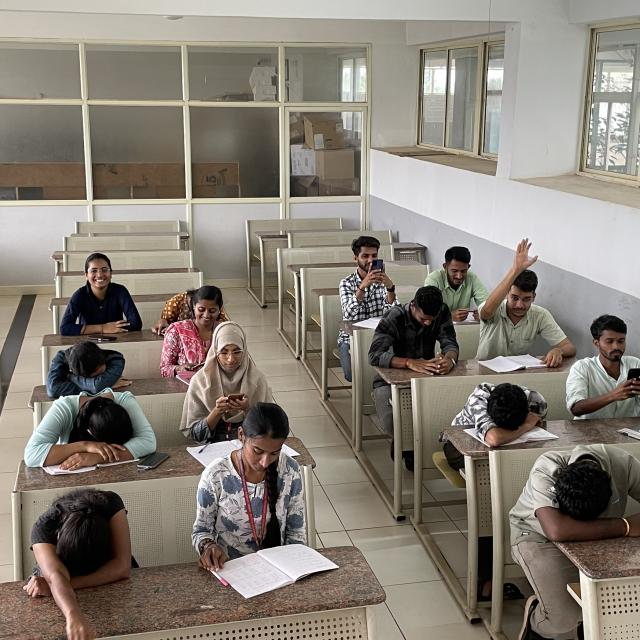Hand Rising: (479, 234, 568, 355)
Reading: (190, 404, 316, 580)
Sleeping: (26, 478, 137, 586), (527, 438, 636, 540), (28, 387, 161, 464), (453, 379, 552, 439), (43, 338, 131, 396)
Using Phone: (184, 316, 274, 432), (375, 284, 456, 371), (568, 311, 636, 408), (336, 239, 396, 318)
